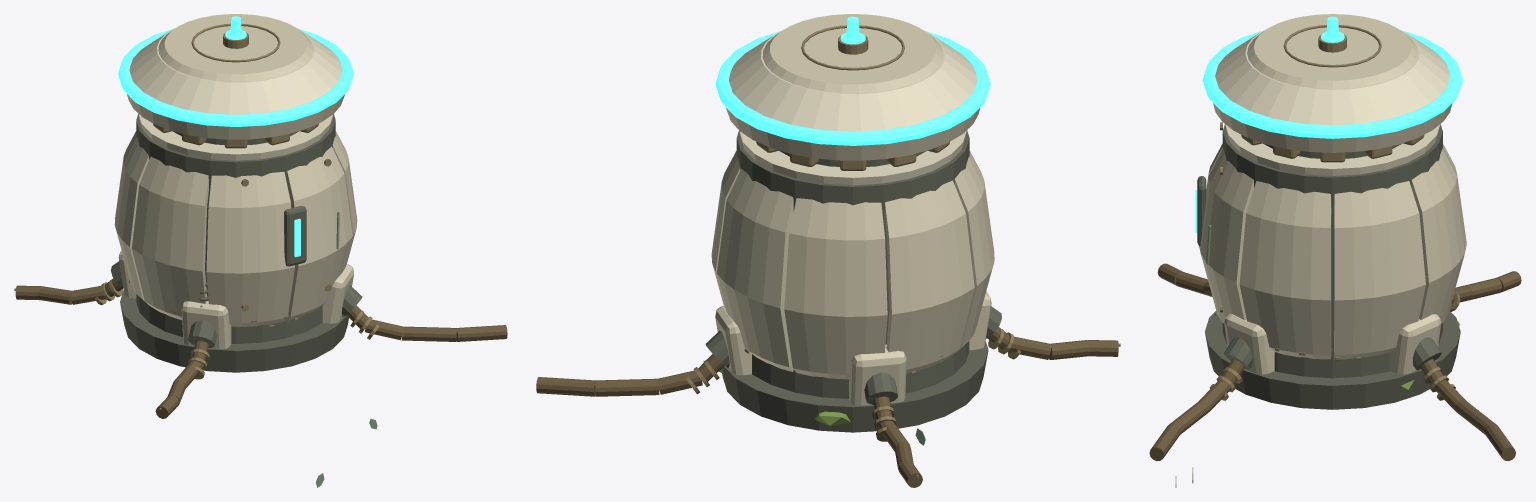
Rendered from Lake_Power_Station_Ready.glb.
3 renders of one model, left to right at view 1: azimuth 30°, elevation 25°; view 2: azimuth 150°, elevation 25°; view 3: azimuth 270°, elevation 25°, orthographic. The views are drawn at different scales.
Parts seen in each view (by area): view 1: Structure, Lights; view 2: Structure, Lights; view 3: Structure, Lights.
Part boxes in pixels (x1,y1,x2,y2): Structure: [14, 14, 507, 487]; Lights: [118, 16, 353, 256]; Structure: [536, 14, 1120, 487]; Lights: [715, 16, 990, 145]; Structure: [1149, 14, 1521, 487]; Lights: [1195, 16, 1462, 232].
Bounding box in the file's own units: 3.68 × 4.27 × 3.11.
